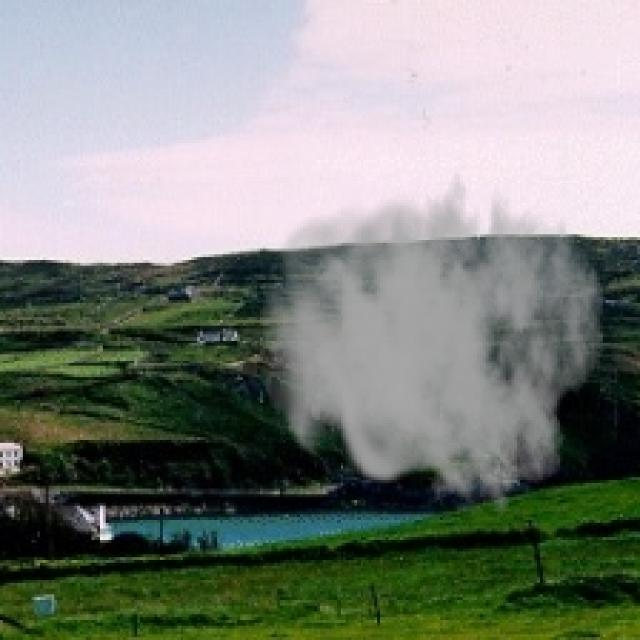smoke: (260, 155, 606, 514)
